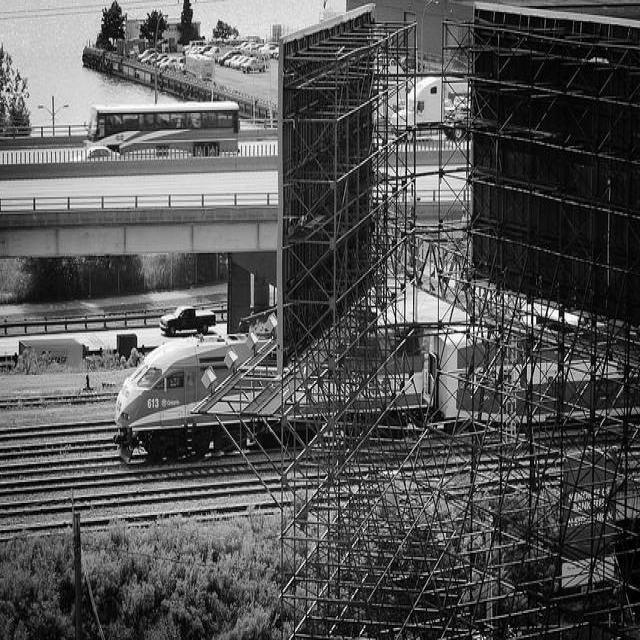vehicle: (86, 109, 236, 159), (407, 75, 469, 139), (18, 337, 86, 369), (158, 306, 216, 336), (68, 145, 120, 163), (221, 48, 239, 72), (241, 59, 267, 73), (218, 51, 242, 65), (136, 48, 155, 62), (230, 56, 246, 70), (261, 44, 277, 58), (236, 57, 250, 71), (141, 51, 156, 64), (160, 59, 176, 71), (154, 53, 168, 64), (204, 47, 219, 57), (185, 45, 199, 55), (190, 47, 204, 55)
